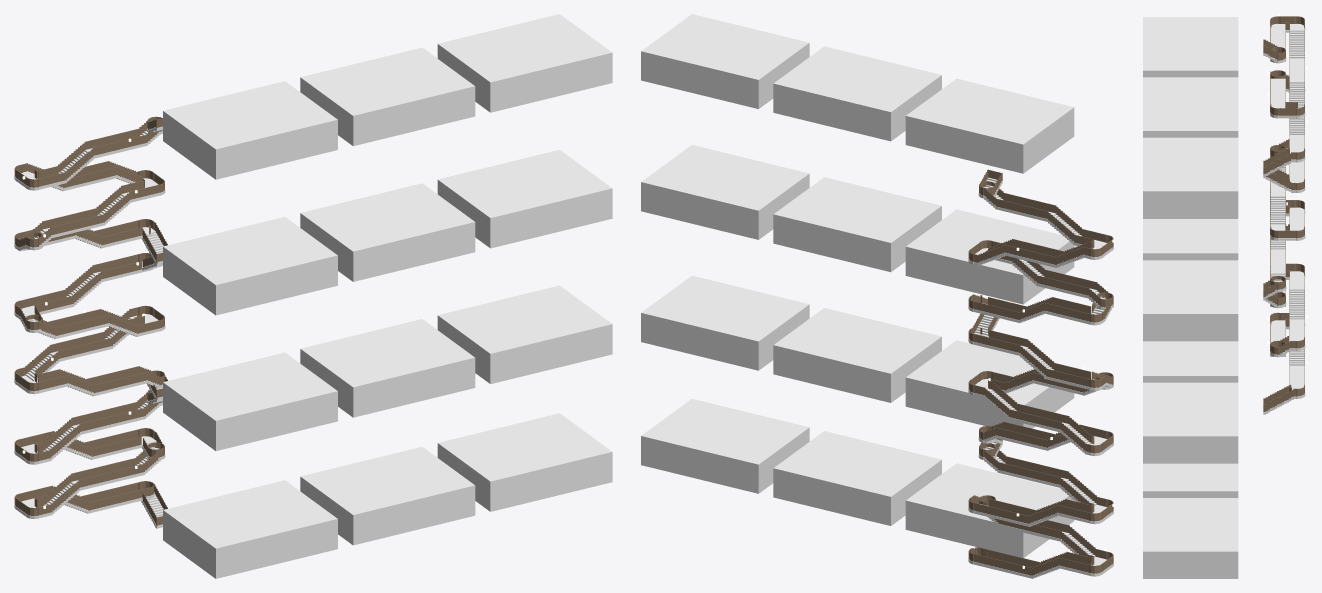
3 views of the same model, side by side, from view 1: azimuth 30°, elevation 25°; view 2: azimuth 150°, elevation 25°; view 3: azimuth 270°, elevation 25° (orthographic). The views are drawn at different scales.
Parts seen in each view (by area): view 1: cliff_ceiling_rock_ceiling, cliff_wall_plaster, cliff_rail_rail, cliff_stair_wood, cliff_floor_stone_floor; view 2: cliff_ceiling_rock_ceiling, cliff_wall_plaster, cliff_rail_rail, cliff_stair_wood, cliff_floor_stone_floor; view 3: cliff_ceiling_rock_ceiling, cliff_wall_plaster, cliff_stair_wood, cliff_rail_rail, cliff_floor_stone_floor.
Boxes of the visible parts, <box> form: cliff_ceiling_rock_ceiling: <box>163,14,612,550</box>; cliff_wall_plaster: <box>163,46,612,576</box>; cliff_rail_rail: <box>14,116,167,525</box>; cliff_stair_wood: <box>14,126,165,528</box>; cliff_floor_stone_floor: <box>163,80,612,578</box>; cliff_ceiling_rock_ceiling: <box>641,14,1074,525</box>; cliff_wall_plaster: <box>641,45,1074,555</box>; cliff_rail_rail: <box>968,169,1113,575</box>; cliff_stair_wood: <box>968,177,1113,578</box>; cliff_floor_stone_floor: <box>641,78,1074,557</box>; cliff_ceiling_rock_ceiling: <box>1143,17,1238,553</box>; cliff_wall_plaster: <box>1143,72,1238,576</box>; cliff_stair_wood: <box>1263,23,1305,414</box>; cliff_rail_rail: <box>1263,16,1304,411</box>; cliff_floor_stone_floor: <box>1143,216,1238,578</box>.
Size of the model in its own units: 67.36 by 53.85 by 20.76.
